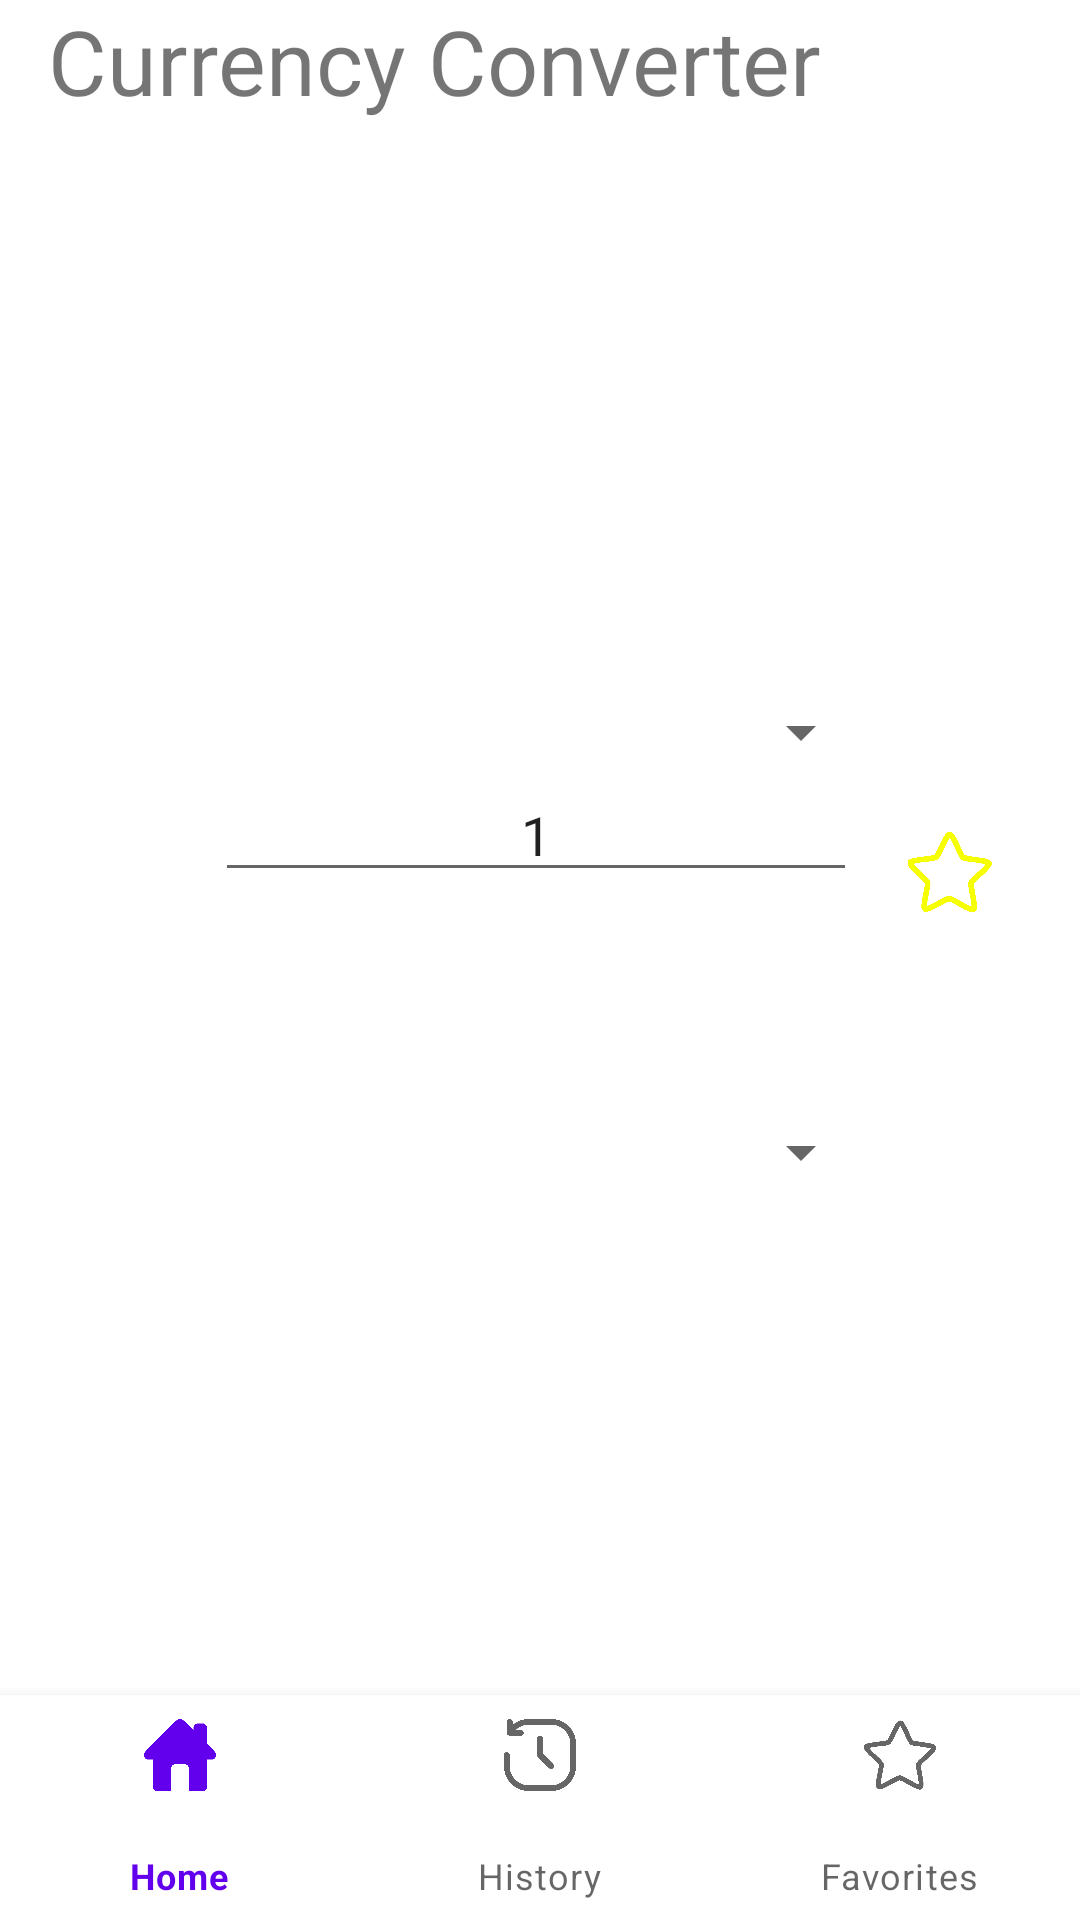

Icon click points for this 1080px×1920px phone screenshot, format (x,y):
star empty: (950,872)
